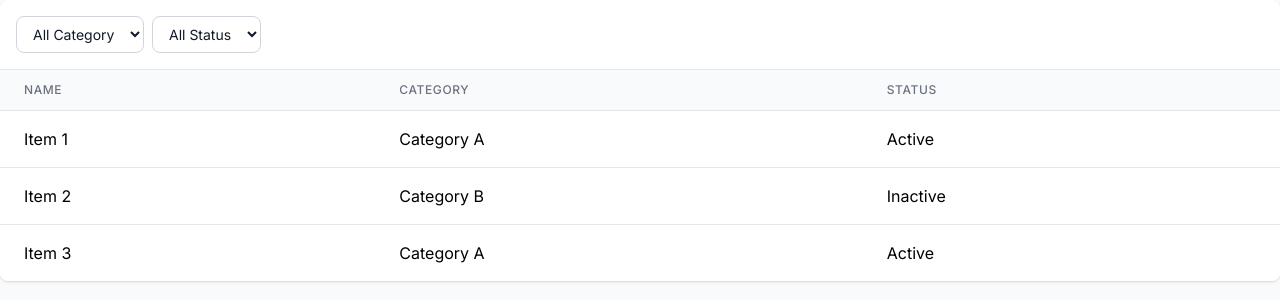
it: DataTable › filters data based on dropdown selection
The image size is (1280, 300).
Select "Category A" in the 1st dropdown showing "All Category" at (80,34), box [16, 16, 144, 53]
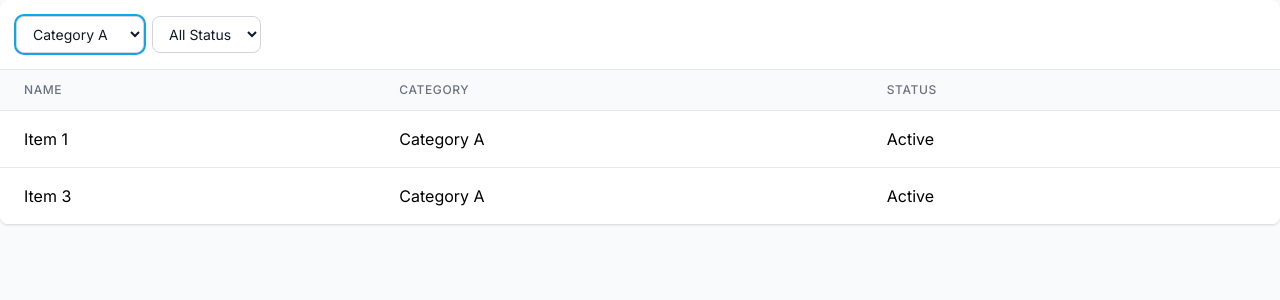
Expected: the text "Item 1" is shown, [0, 110, 375, 168]
Result: the text "Item 2" is gone
